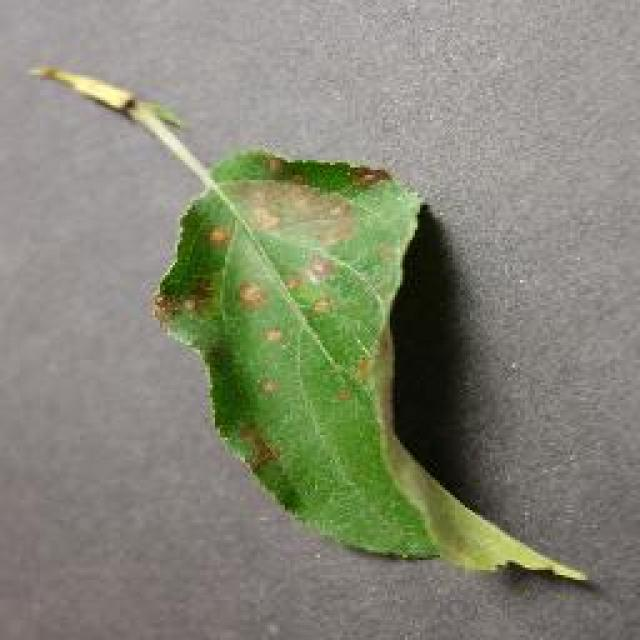Apple___Cedar_apple_rust: (140, 139, 594, 589)
